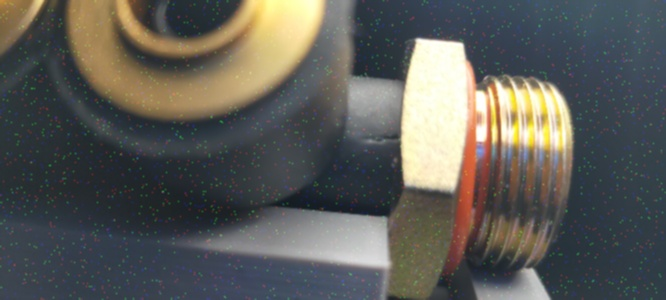craze: (358, 133, 401, 147)
